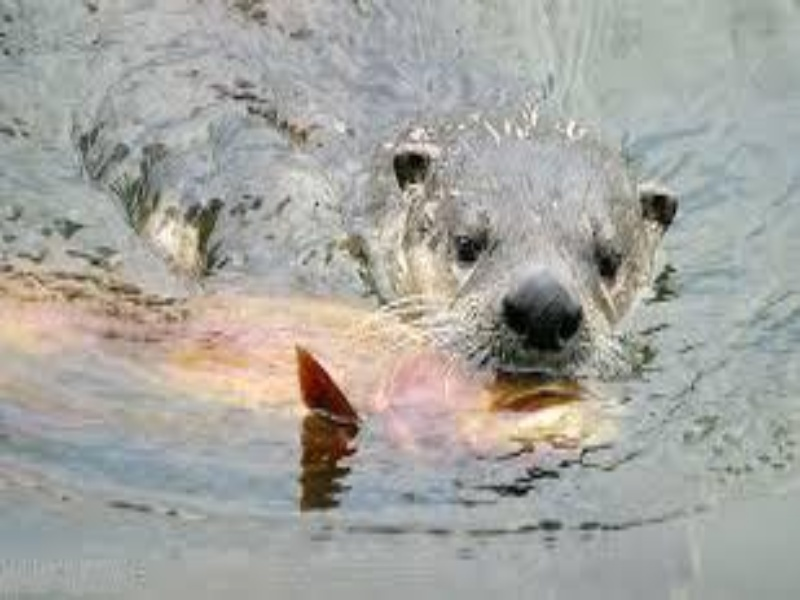minkish: (64, 1, 684, 419)
